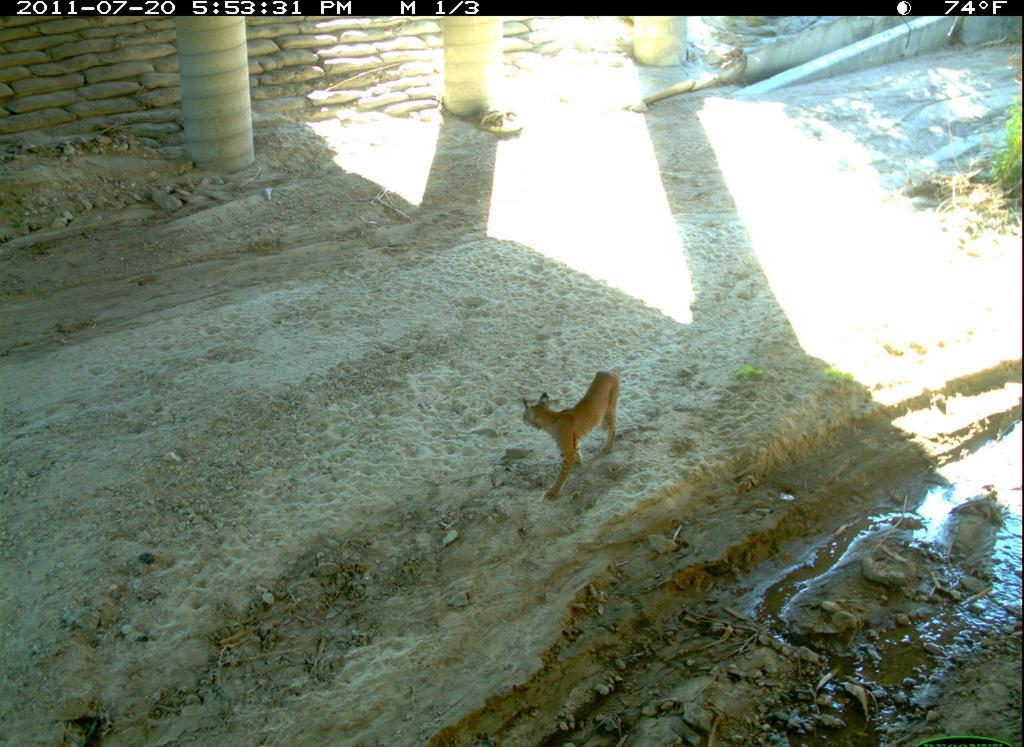bobcat: (516, 364, 644, 511)
